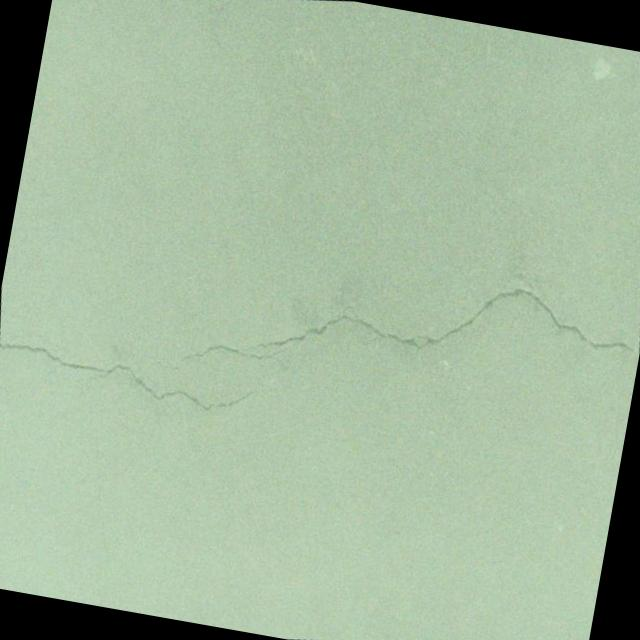crack: (141, 208, 640, 450), (0, 305, 278, 450)
